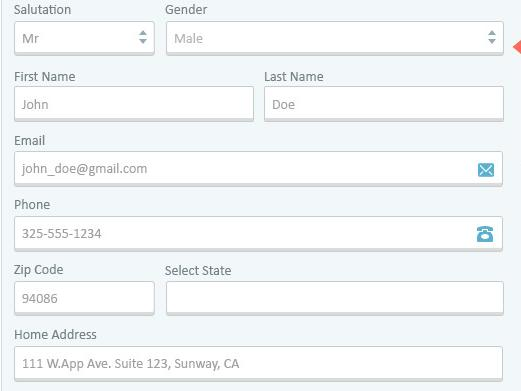field: (10, 344, 505, 384), (10, 213, 505, 252), (10, 149, 505, 187), (161, 279, 507, 317), (165, 20, 504, 57), (261, 85, 506, 123), (10, 86, 255, 121), (11, 278, 155, 316), (13, 19, 155, 56)
field_with_label: (8, 329, 508, 386), (8, 199, 508, 255), (7, 135, 509, 190), (164, 4, 508, 60), (161, 265, 509, 319), (263, 71, 509, 125), (7, 72, 257, 123), (11, 3, 158, 58), (9, 264, 156, 318)
